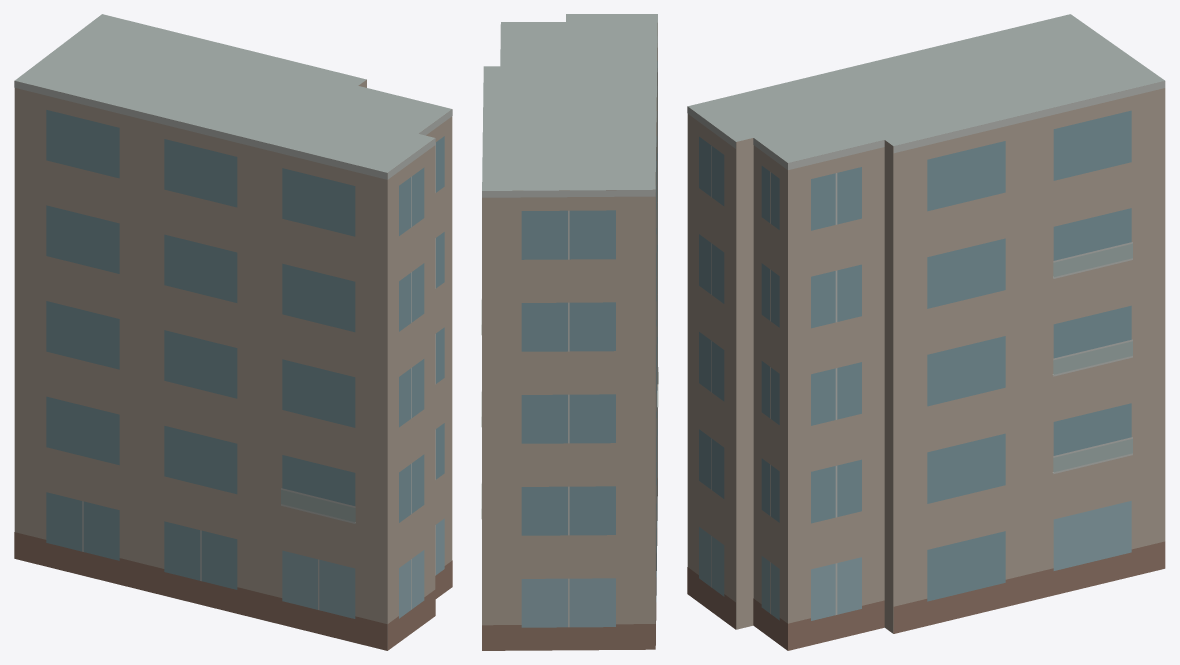
The model's file is survey-upis-33045020.glb.
The picture shows the model from 3 angles, left to right: view 1: azimuth 30°, elevation 25°; view 2: azimuth 150°, elevation 25°; view 3: azimuth 270°, elevation 25°; orthographic projection. The views are drawn at different scales.
Parts seen in each view (by area): view 1: survey-upis-33045020.tmp; view 2: survey-upis-33045020.tmp; view 3: survey-upis-33045020.tmp.
Part boxes in pixels (x1,y1,x2,y2): survey-upis-33045020.tmp: [14, 14, 452, 650]; survey-upis-33045020.tmp: [481, 14, 658, 650]; survey-upis-33045020.tmp: [687, 14, 1165, 650].
Bounding box in the file's own units: 10.89 × 16.6 × 14.75.
